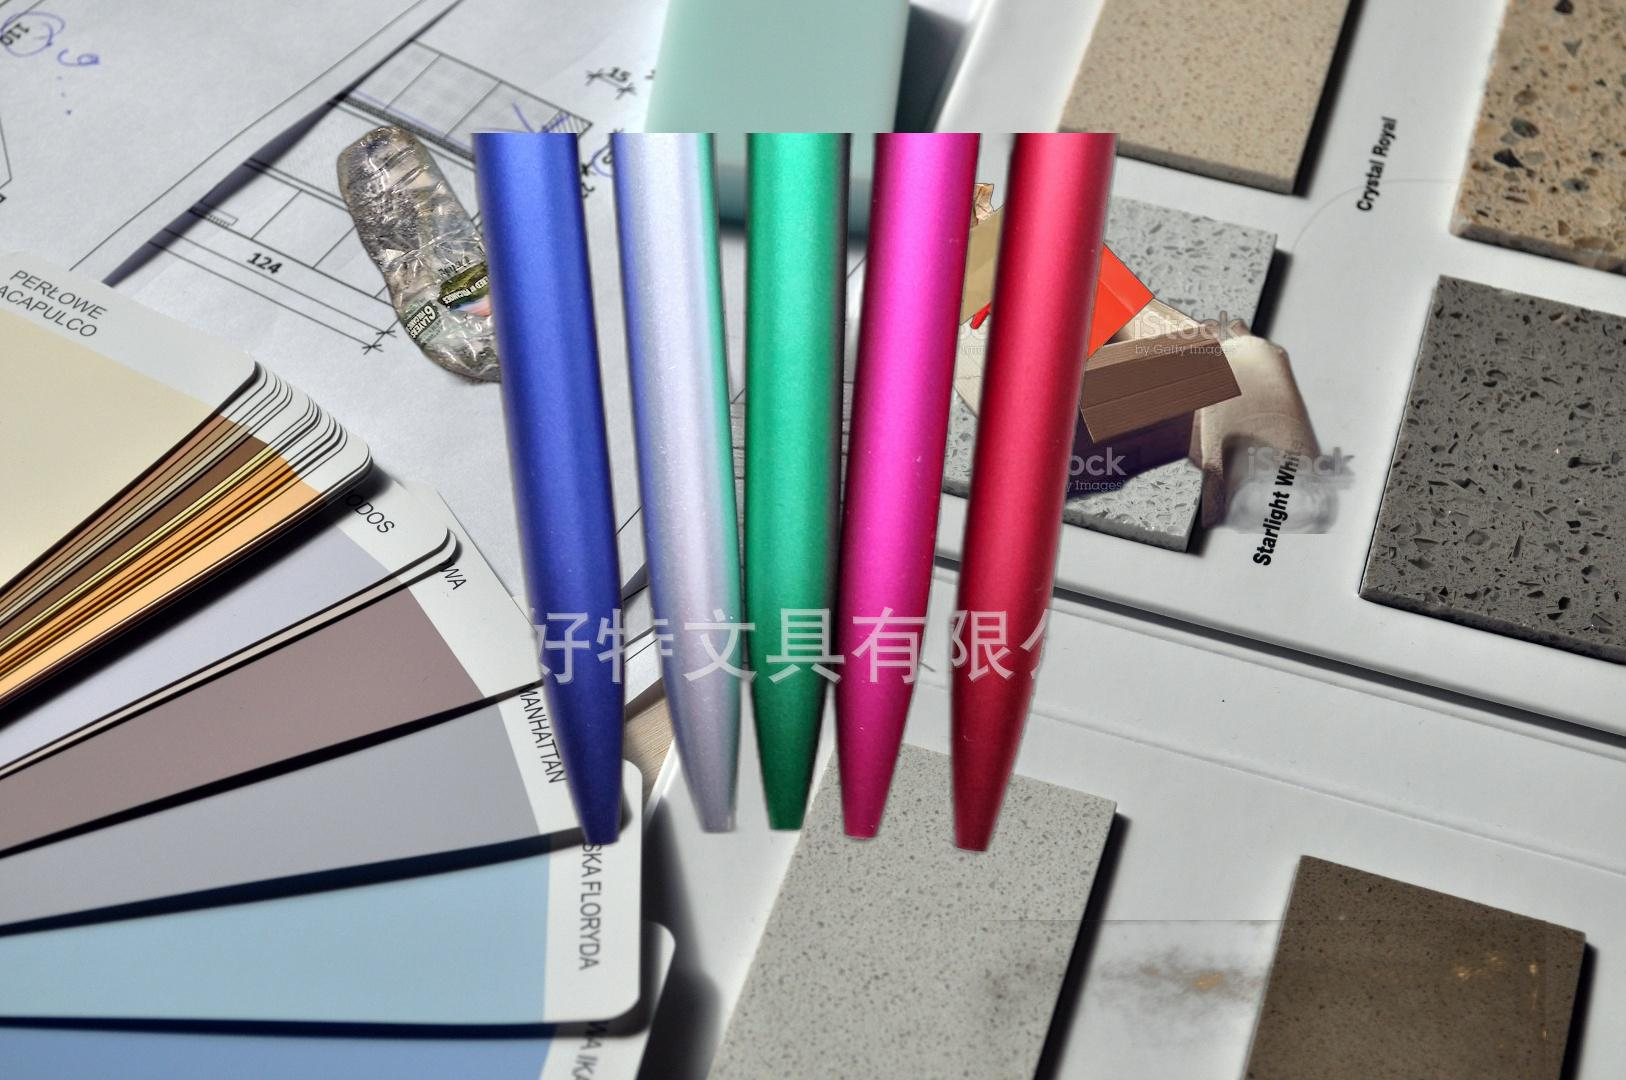paper-bag: (916, 164, 1156, 389)
penholder: (460, 133, 1126, 862)
plastic-bottles: (331, 119, 552, 410)
trashbox-cardboard: (902, 256, 1458, 534), (934, 920, 1546, 1080)
